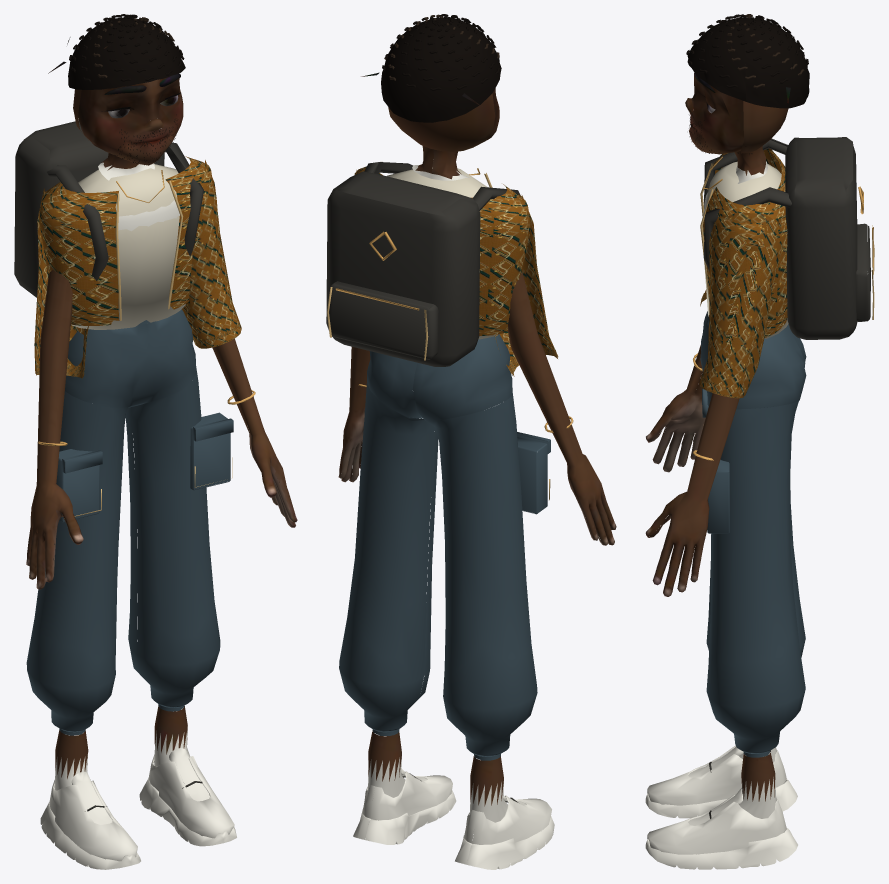
Rendered from character-kofi-resident.glb.
3 renders of one model, left to right at view 1: azimuth 30°, elevation 25°; view 2: azimuth 150°, elevation 25°; view 3: azimuth 270°, elevation 25°, orthographic. The views are drawn at different scales.
Parts seen in each view (by area): view 1: Explorer; view 2: Explorer; view 3: Explorer.
Boxes of the visible parts, x1,y1,x2,y2 form: Explorer: [14, 14, 297, 869]; Explorer: [326, 14, 616, 869]; Explorer: [645, 14, 874, 869].
Size of the model in its own units: 0.544 by 1.61 by 0.4121.
11 materials, 2 textured.
